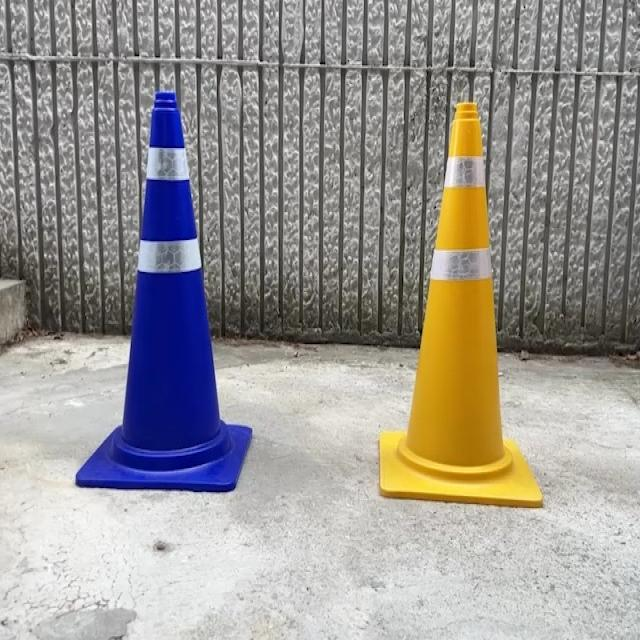b_rub: (75, 91, 252, 491)
y_rub: (381, 103, 544, 507)
